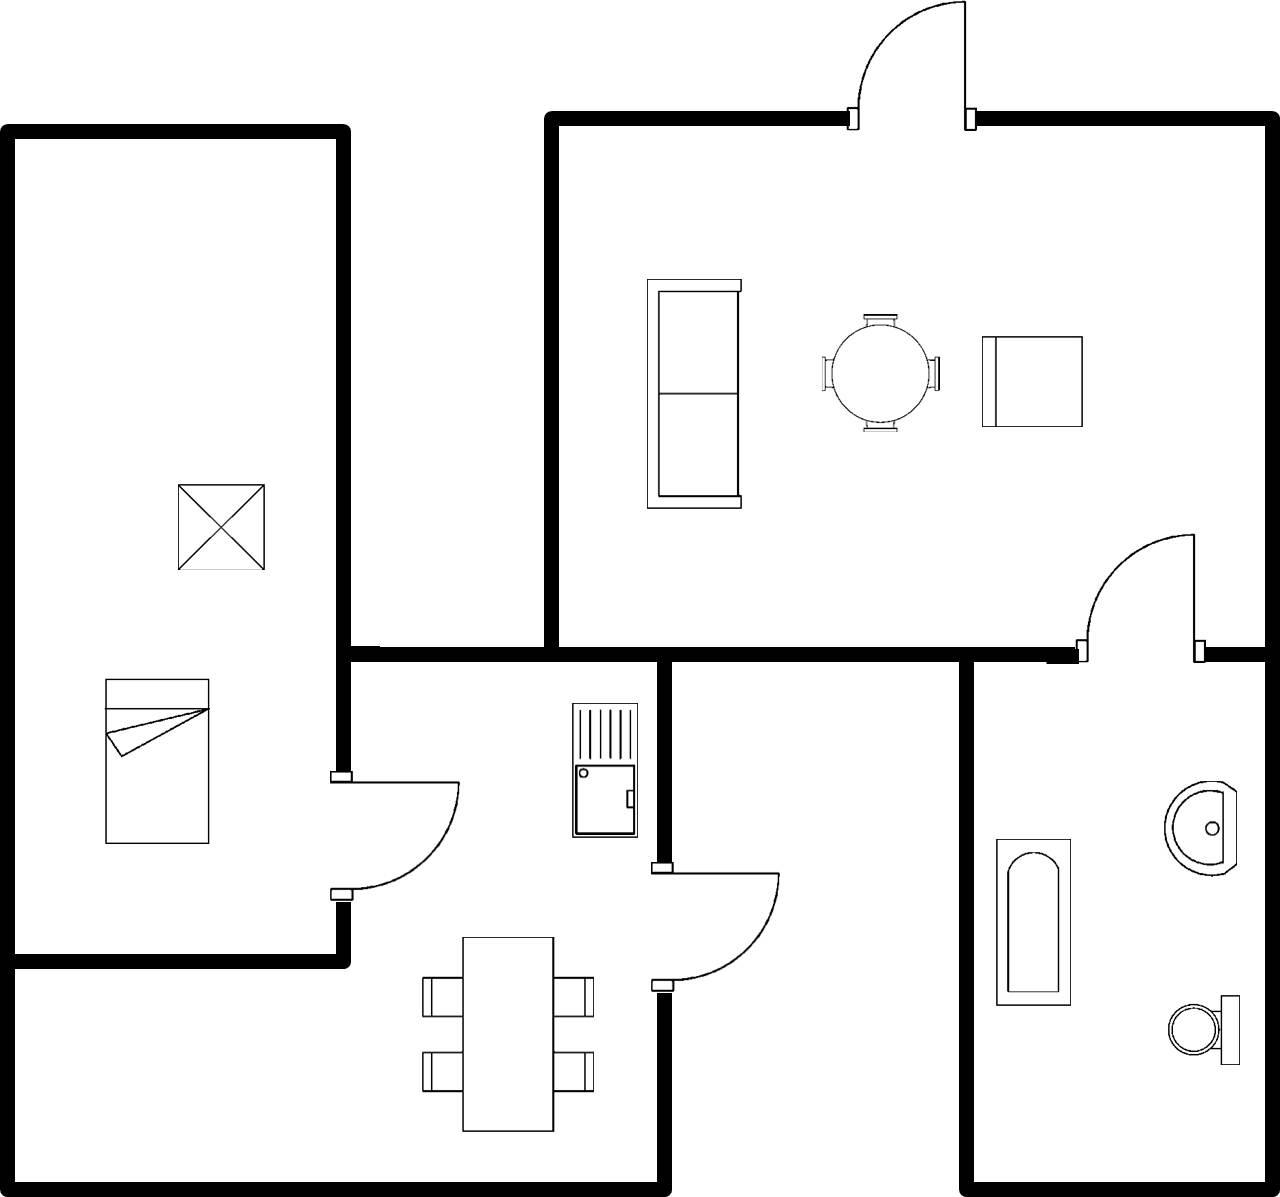bed: (100, 670, 215, 852)
dining_table: (415, 928, 602, 1141)
round_table: (811, 301, 945, 447)
sink: (562, 694, 644, 846)
sofa: (636, 268, 752, 519)
toilet: (1155, 988, 1247, 1074)
tub: (984, 828, 1080, 1012)
